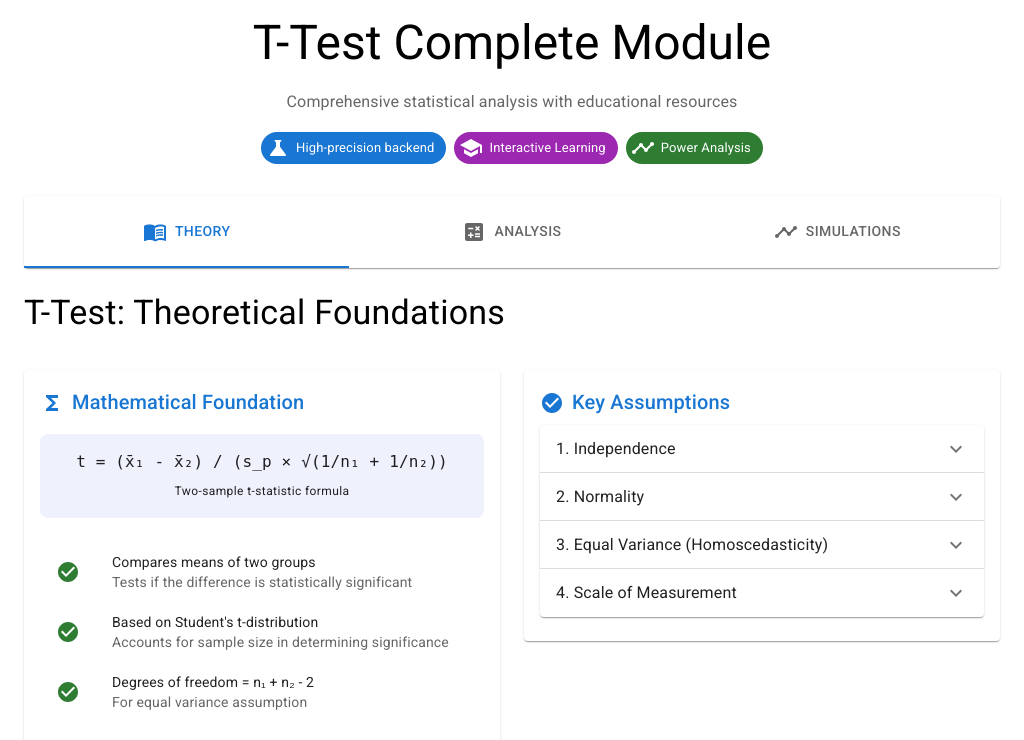
a p-value of 7.76e-8 prints with significant figures, and α prints as 0.05
Click the tab "Analysis" at (512, 232), box [349,196,675,268]
(page scrolled)
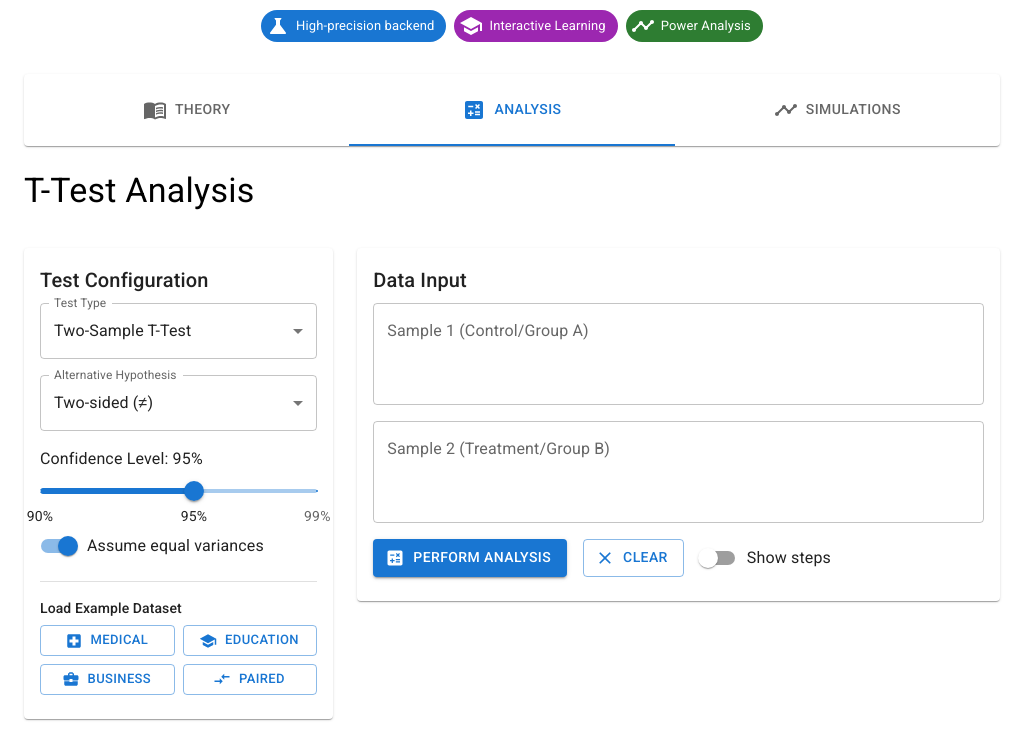
Click the button "Medical" at (107, 641), box [40,625,175,656]
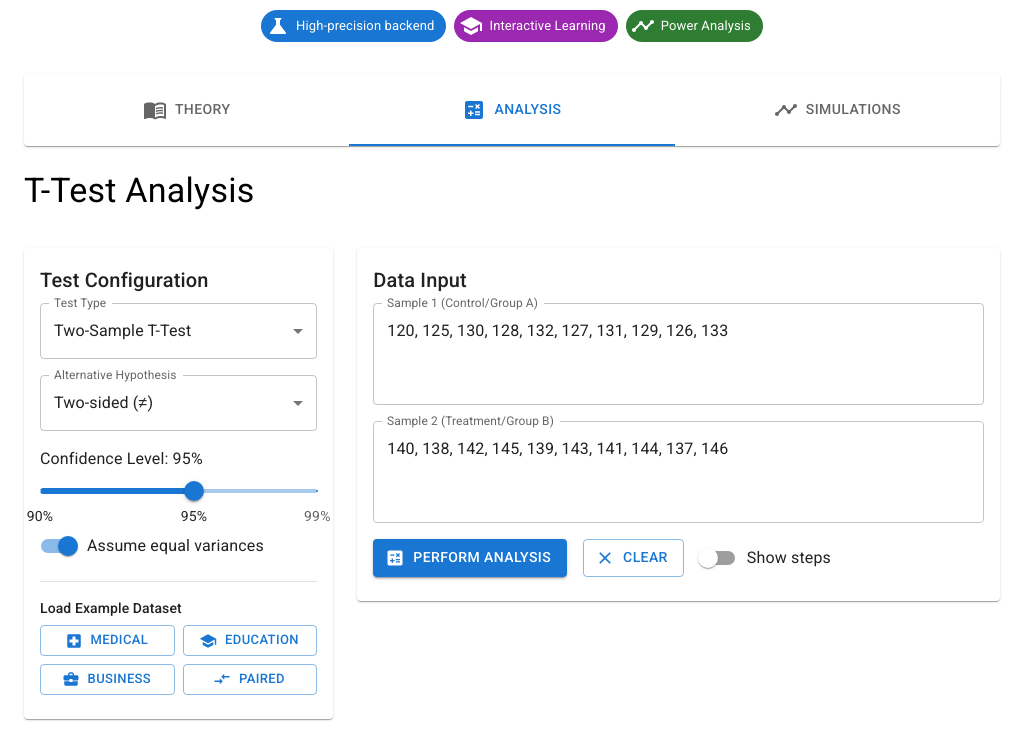
Click the button "Perform Analysis" at (470, 558), box [373,539,567,577]
(page scrolled)
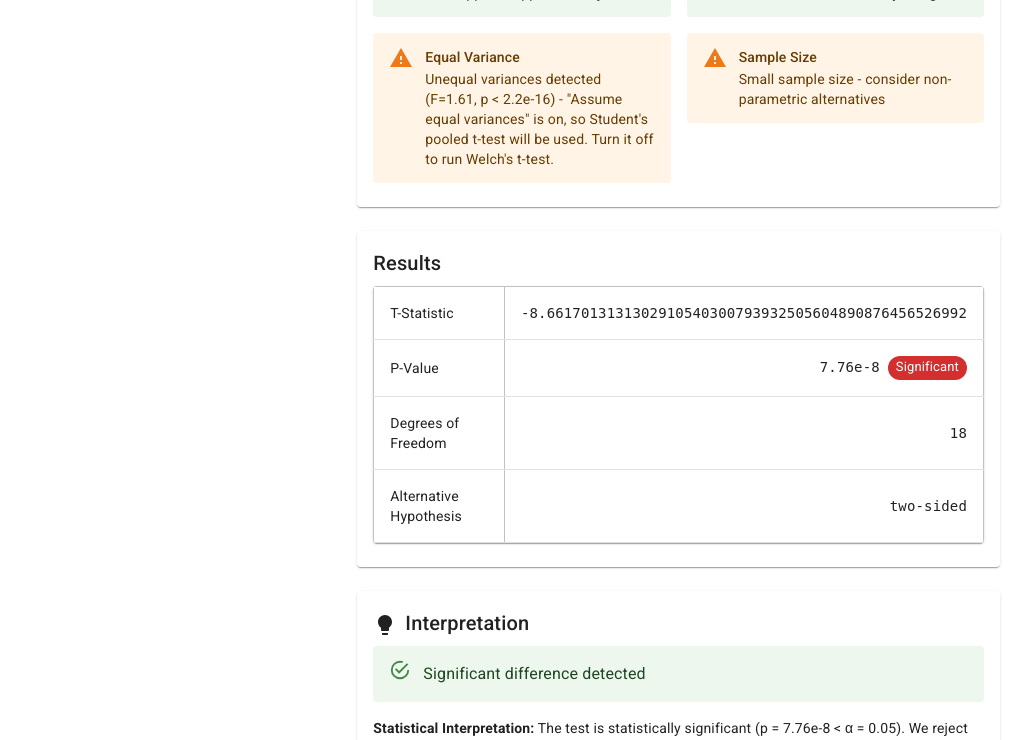
Expected: the text "7.76e-8" is shown, [820,359,880,375]
Expected: the cell titled "Full precision: 7.7615315650003952552146497347420289454645218856193E-8" is shown, [504,339,984,396]
Expected: the text "Significant" is shown, [896,359,959,374]
